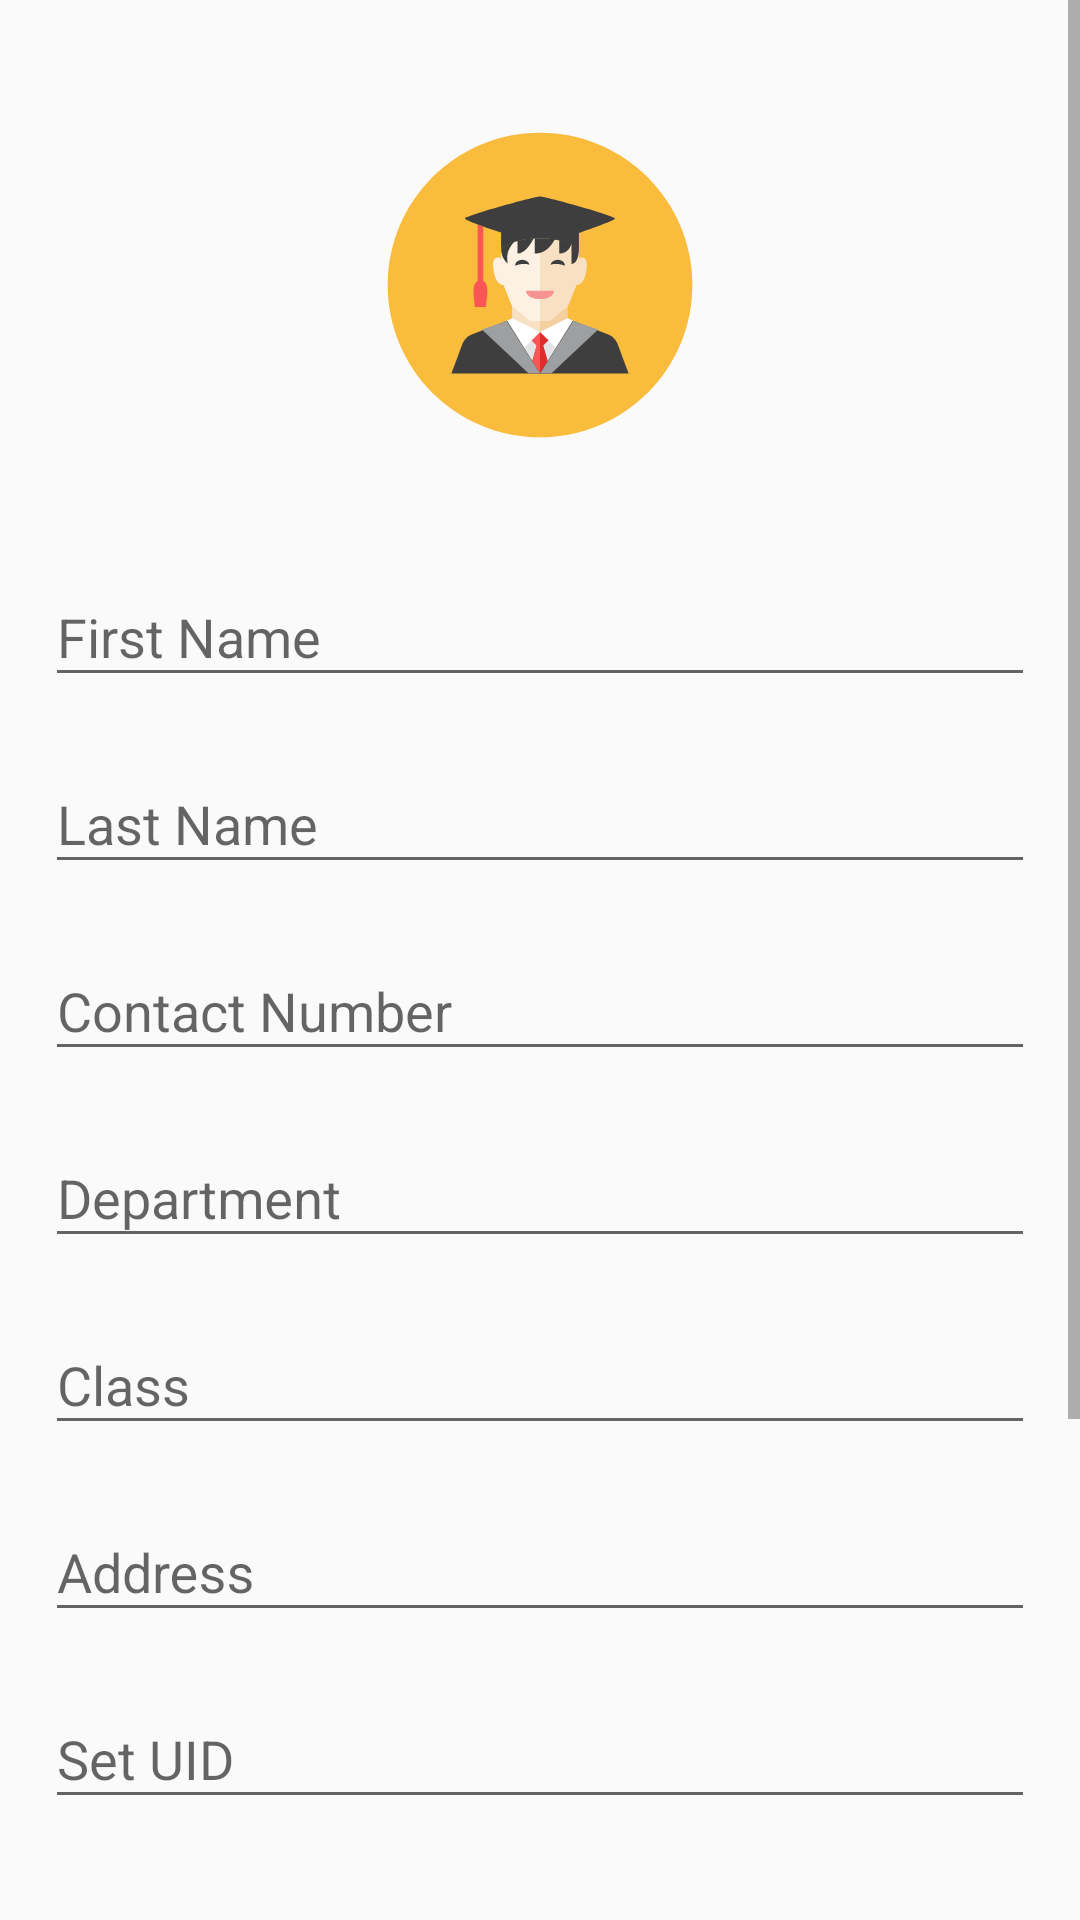

Icon bounding boxes for this 1080x1920 phone screenshot, format detection(x1, y1, x2, y2):
student: detection(387, 132, 693, 438)
